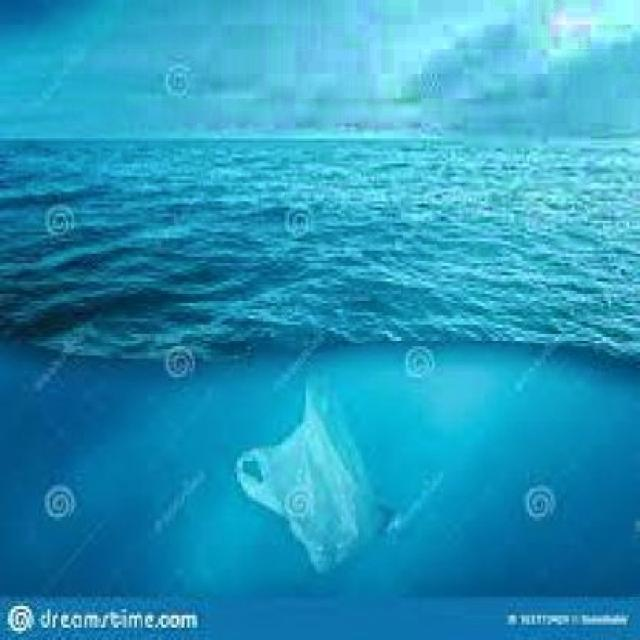pbag: (234, 371, 395, 578)
